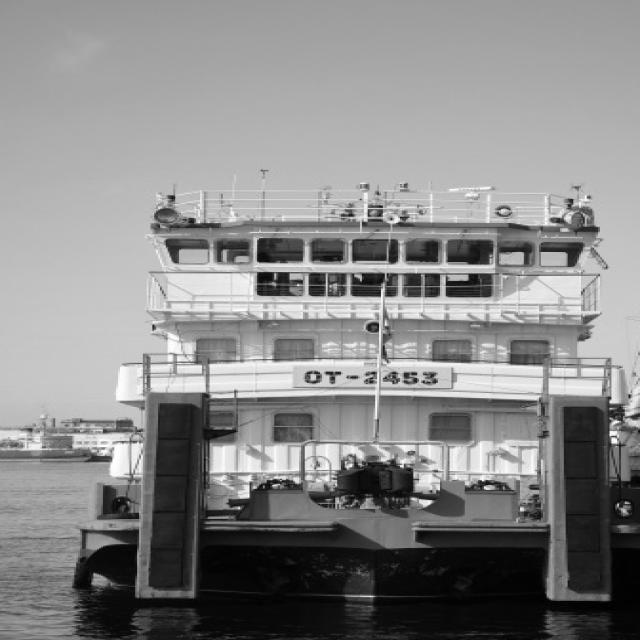tugboat: (67, 180, 640, 621)
